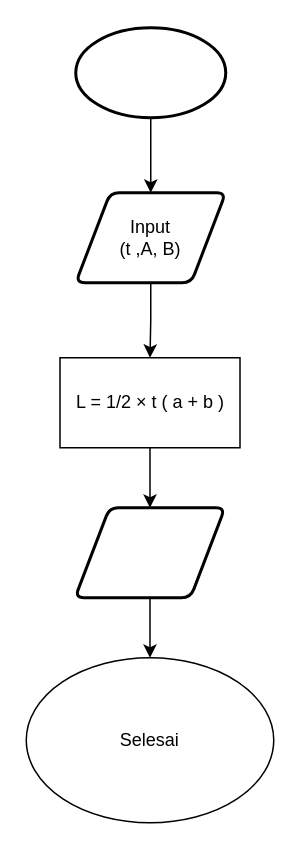
Some shapes in this 300 by 849 pixel diagram are drawn without their labels. The centre of each missing label's shape, as x and y in pixels:
Mulai: pixel 150 72
Output (L): pixel 149 552
